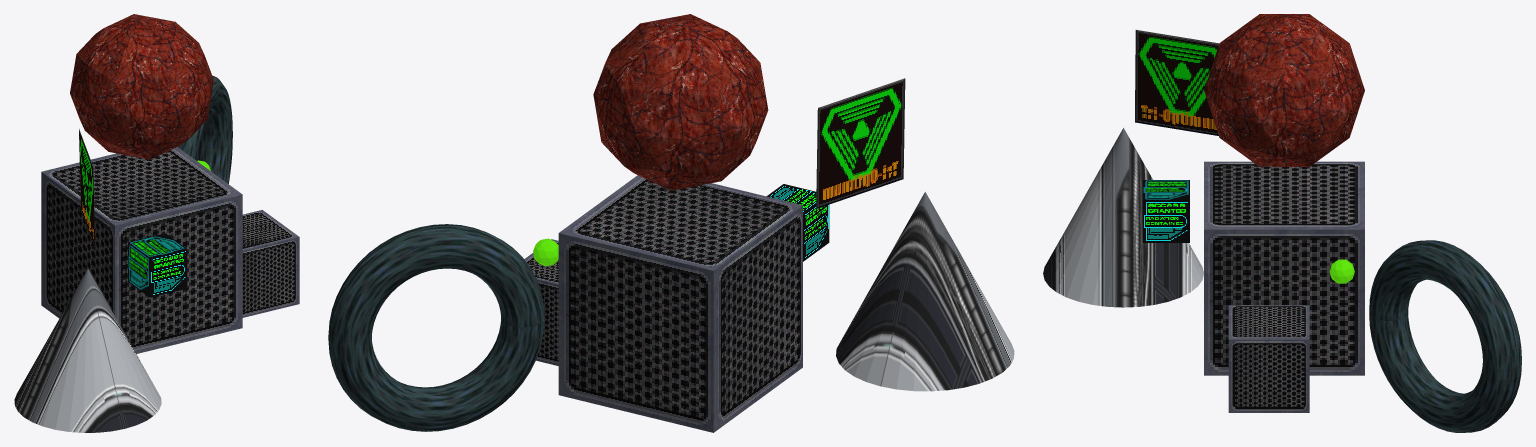
The picture shows the model from 3 angles, left to right: view 1: azimuth 30°, elevation 25°; view 2: azimuth 150°, elevation 25°; view 3: azimuth 270°, elevation 25°; orthographic projection. The views are drawn at different scales.
Parts seen in each view (by area): view 1: Cube, Icosphere, Cone, Cube.001, Cube.002, Torus, Plane; view 2: Cube, Torus, Icosphere, Cone, Plane, Cube.001, Cube.002; view 3: Cube, Icosphere, Torus, Cone, Cube.001, Plane, Cube.002, IcoLight.
Boxes of the visible parts, bbox=[...] form: Cube: bbox=[41, 147, 242, 353]; Icosphere: bbox=[70, 14, 213, 159]; Cone: bbox=[14, 269, 161, 432]; Cube.001: bbox=[242, 210, 299, 317]; Cube.002: bbox=[128, 233, 187, 297]; Torus: bbox=[178, 75, 232, 183]; Plane: bbox=[79, 129, 95, 249]; Cube: bbox=[558, 175, 802, 432]; Torus: bbox=[328, 224, 544, 431]; Icosphere: bbox=[593, 14, 768, 190]; Cone: bbox=[836, 192, 1014, 391]; Plane: bbox=[816, 78, 905, 208]; Cube.001: bbox=[524, 239, 558, 365]; Cube.002: bbox=[766, 184, 829, 261]; Cube: bbox=[1204, 161, 1364, 375]; Icosphere: bbox=[1204, 14, 1364, 166]; Torus: bbox=[1369, 240, 1521, 432]; Cone: bbox=[1043, 128, 1203, 307]; Cube.001: bbox=[1228, 305, 1309, 412]; Plane: bbox=[1135, 30, 1219, 135]; Cube.002: bbox=[1142, 180, 1189, 242]; IcoLight: bbox=[1329, 259, 1354, 283].
Size of the model in its own units: 5.95 by 4.69 by 5.95.
7 materials, 6 textured.
